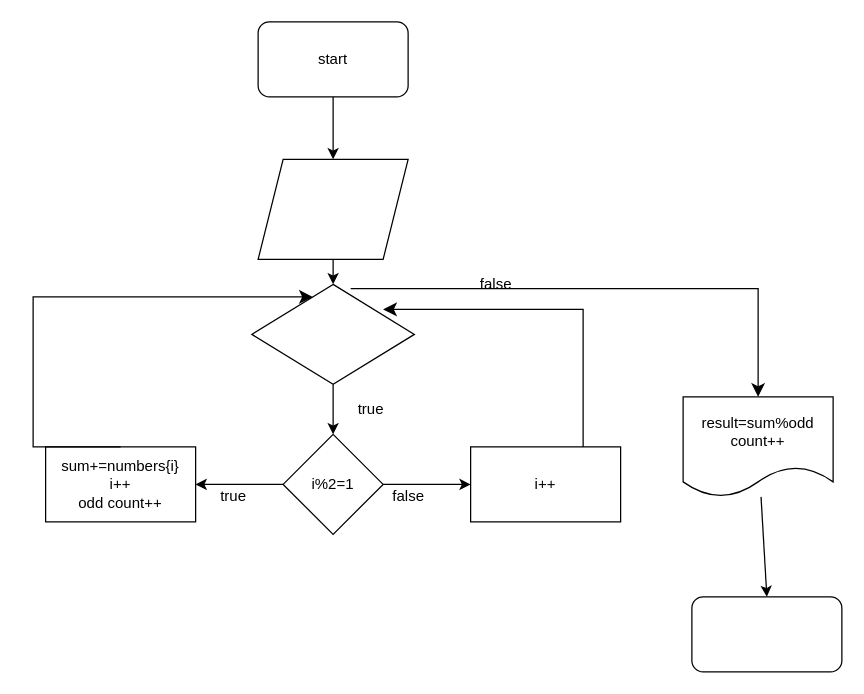
Image size: 864x694. Some labels were removed from this diagram. The centre of each missing label's shape, as x and y in pixels:
"end" goes at (x=766, y=634).
"i<numbers lenght" goes at (x=332, y=333).
"numbers{i} sum=0 i=0 odd count=0 result=?" goes at (x=332, y=208).
